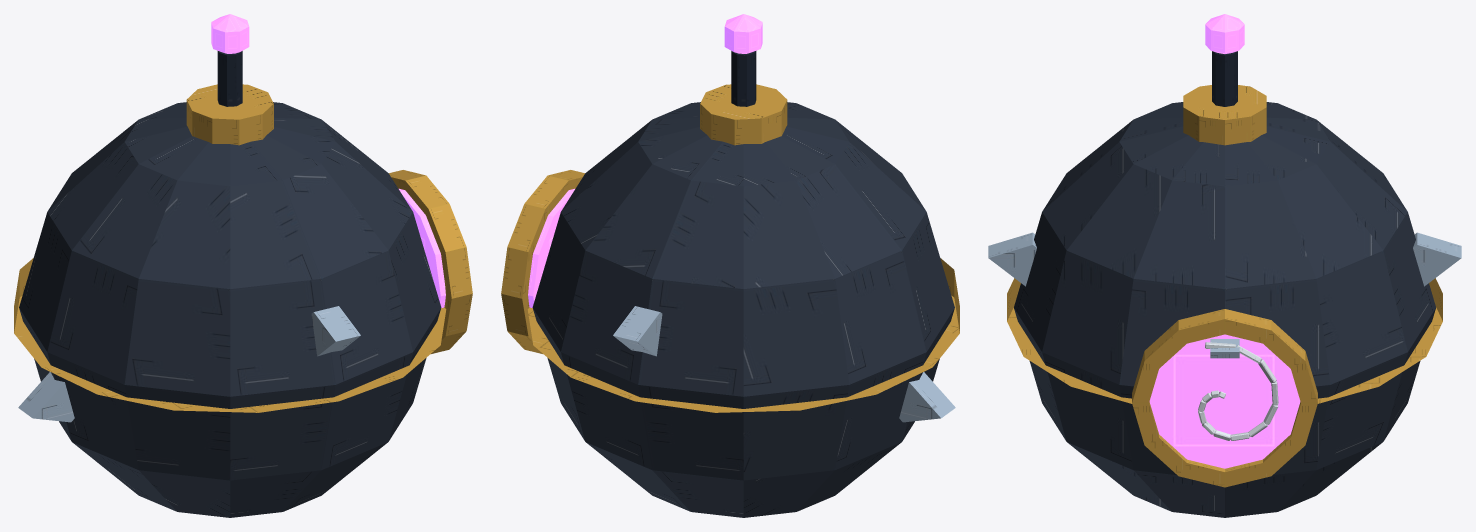
File: vortex.glb
3 renders of one model, left to right at view 1: azimuth 30°, elevation 25°; view 2: azimuth 150°, elevation 25°; view 3: azimuth 270°, elevation 25°, orthographic.
Parts seen in each view (by area): view 1: body, fuse; view 2: body, fuse; view 3: body, fuse.
Boxes of the visible parts, x1=… form: body: x1=14, y1=84, x2=472, y2=517; fuse: x1=211, y1=14, x2=249, y2=106; body: x1=501, y1=84, x2=959, y2=517; fuse: x1=724, y1=14, x2=762, y2=106; body: x1=988, y1=85, x2=1461, y2=517; fuse: x1=1205, y1=14, x2=1244, y2=106.
Size of the model in its own units: 0.2912 by 0.3294 by 0.2912.
Materials: 6 (6 with a texture image).
